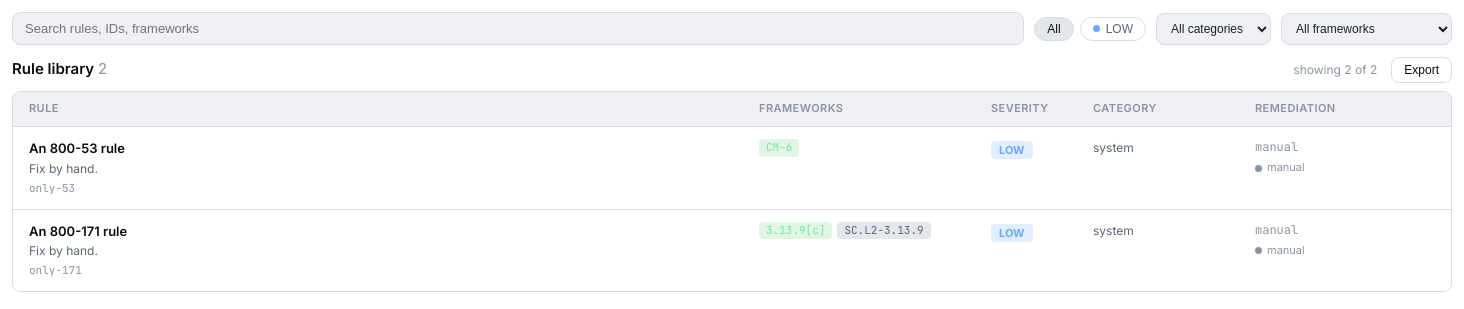
it: frontend-rules-library v1.x — framework labels (D-2 S-7) › frontend-rules-library/AC-05 — frameworks are named with the API labels
Expected: the text "An 800-171 rule" is shown, [29,222,127,238]
Select "NIST SP 800-171 Rev 2" in the dropdown named "All frameworks" at (1366, 28), box [1281,12,1452,44]
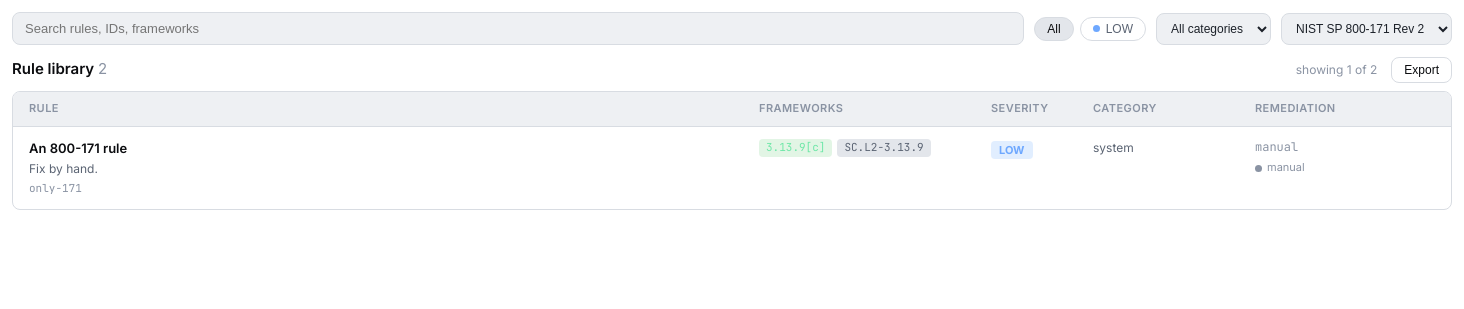
Expected: the text "An 800-171 rule" is shown, [29,140,127,156]
Result: the text "An 800-53 rule" is gone
